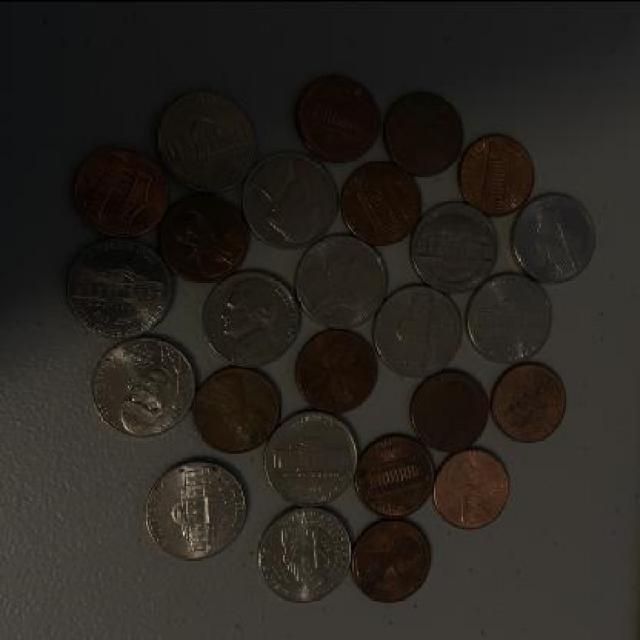Nickel: (88, 335, 198, 440), (63, 237, 174, 337), (156, 86, 258, 192), (146, 456, 251, 558), (255, 503, 354, 605), (202, 266, 300, 368), (244, 148, 338, 249), (294, 234, 389, 331), (371, 283, 466, 379), (263, 410, 359, 504), (409, 200, 502, 294), (468, 274, 556, 366), (511, 193, 598, 284)
Penny: (72, 143, 171, 232), (194, 362, 283, 456), (156, 191, 250, 280), (294, 72, 383, 165), (338, 158, 424, 246), (296, 324, 378, 416), (354, 431, 437, 517), (350, 518, 432, 604), (384, 88, 464, 174), (411, 368, 491, 450), (433, 446, 512, 529), (494, 360, 568, 443), (462, 131, 536, 214)
